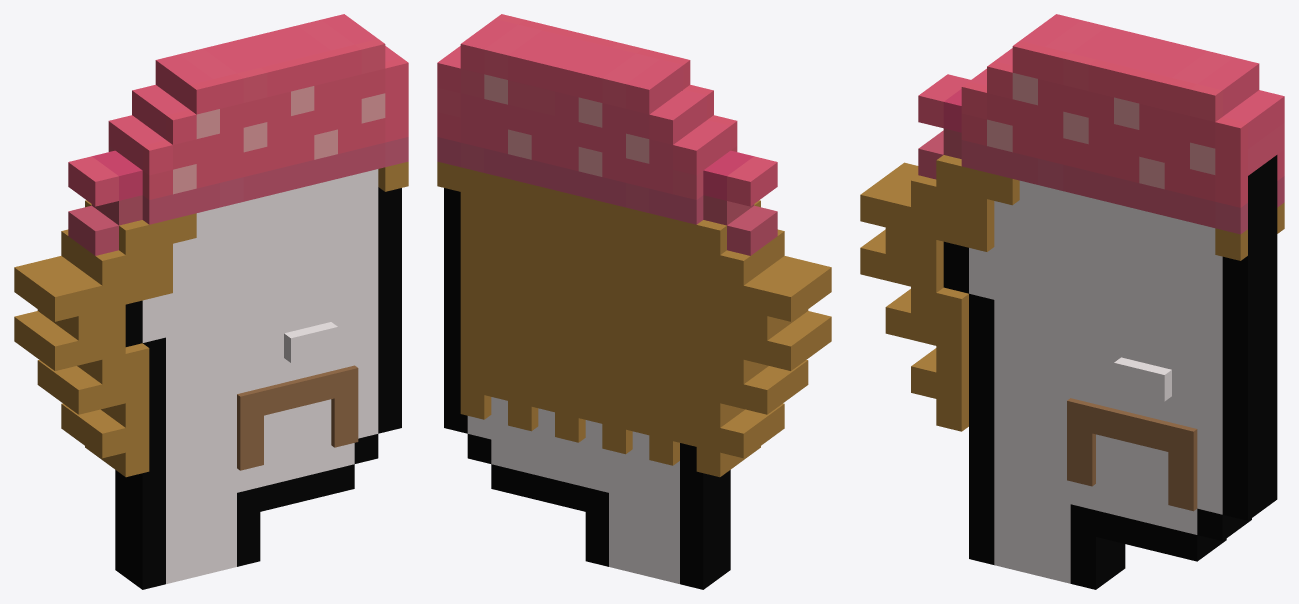
3 views of the same model, side by side, from view 1: azimuth 30°, elevation 25°; view 2: azimuth 150°, elevation 25°; view 3: azimuth 330°, elevation 25° (orthographic). The views are drawn at different scales.
Visible parts, largest first — view 1: face_main, hat_bandana_bloodz_face2, hair01_face (×2), hat_bandana_bloodz_mid1, mustache02_main, hat_bandana_bloodz_mid2, hair01_back (×2), hat_bandana_bloodz_back1, nose_regular_main, back_main; view 2: hair01_back (×2), hat_bandana_bloodz_back1, back_main, hat_bandana_bloodz_mid2, hat_bandana_bloodz_mid1, hair01_face (×2), hat_bandana_bloodz_face2, face_main; view 3: face_main, hat_bandana_bloodz_face2, hair01_face (×2), hat_bandana_bloodz_mid1, mustache02_main, back_main, hat_bandana_bloodz_mid2, hat_bandana_bloodz_back1, nose_regular_main.
Part boxes in pixels (x1,y1,x2,y2): face_main: (125,169,401,589); hat_bandana_bloodz_face2: (142,39,408,224); hair01_face (×2): (34,161,408,477); hat_bandana_bloodz_mid1: (81,29,401,255); mustache02_main: (237,365,358,470); hat_bandana_bloodz_mid2: (68,19,387,245); hair01_back (×2): (14,200,105,461); hat_bandana_bloodz_back1: (108,14,350,151); nose_regular_main: (284,322,337,362); back_main: (115,470,128,579); hair01_back (×2): (437,161,811,477); hat_bandana_bloodz_back1: (437,39,703,224); back_main: (444,188,716,589); hat_bandana_bloodz_mid2: (444,29,764,255); hat_bandana_bloodz_mid1: (458,19,777,245); hair01_face (×2): (740,200,831,461); hat_bandana_bloodz_face2: (495,14,737,151); face_main: (717,470,730,579); face_main: (943,165,1262,589); hat_bandana_bloodz_face2: (961,41,1247,234); hair01_face (×2): (860,155,1247,431); hat_bandana_bloodz_mid1: (918,30,1262,179); mustache02_main: (1067,398,1197,511); back_main: (1110,155,1277,578); hat_bandana_bloodz_mid2: (933,19,1277,164); hat_bandana_bloodz_back1: (1049,14,1284,207); nose_regular_main: (1114,357,1171,401).
Size of the model in its own units: 15 by 20 by 3.
